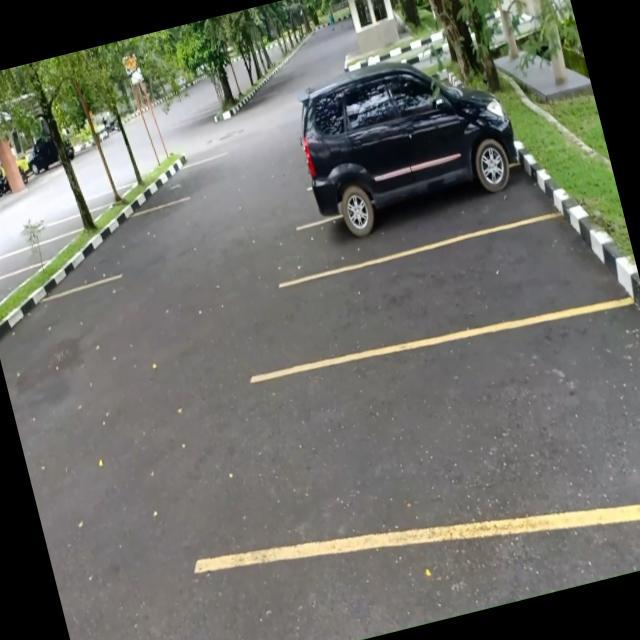empty: (243, 284, 640, 585), (271, 206, 604, 381), (95, 196, 201, 282), (0, 232, 77, 276), (162, 157, 222, 204), (42, 210, 96, 240)
occupied: (299, 105, 541, 273)
